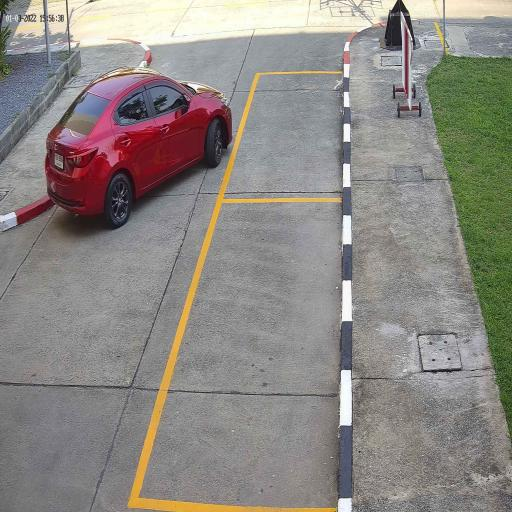car: (46, 68, 233, 225)
